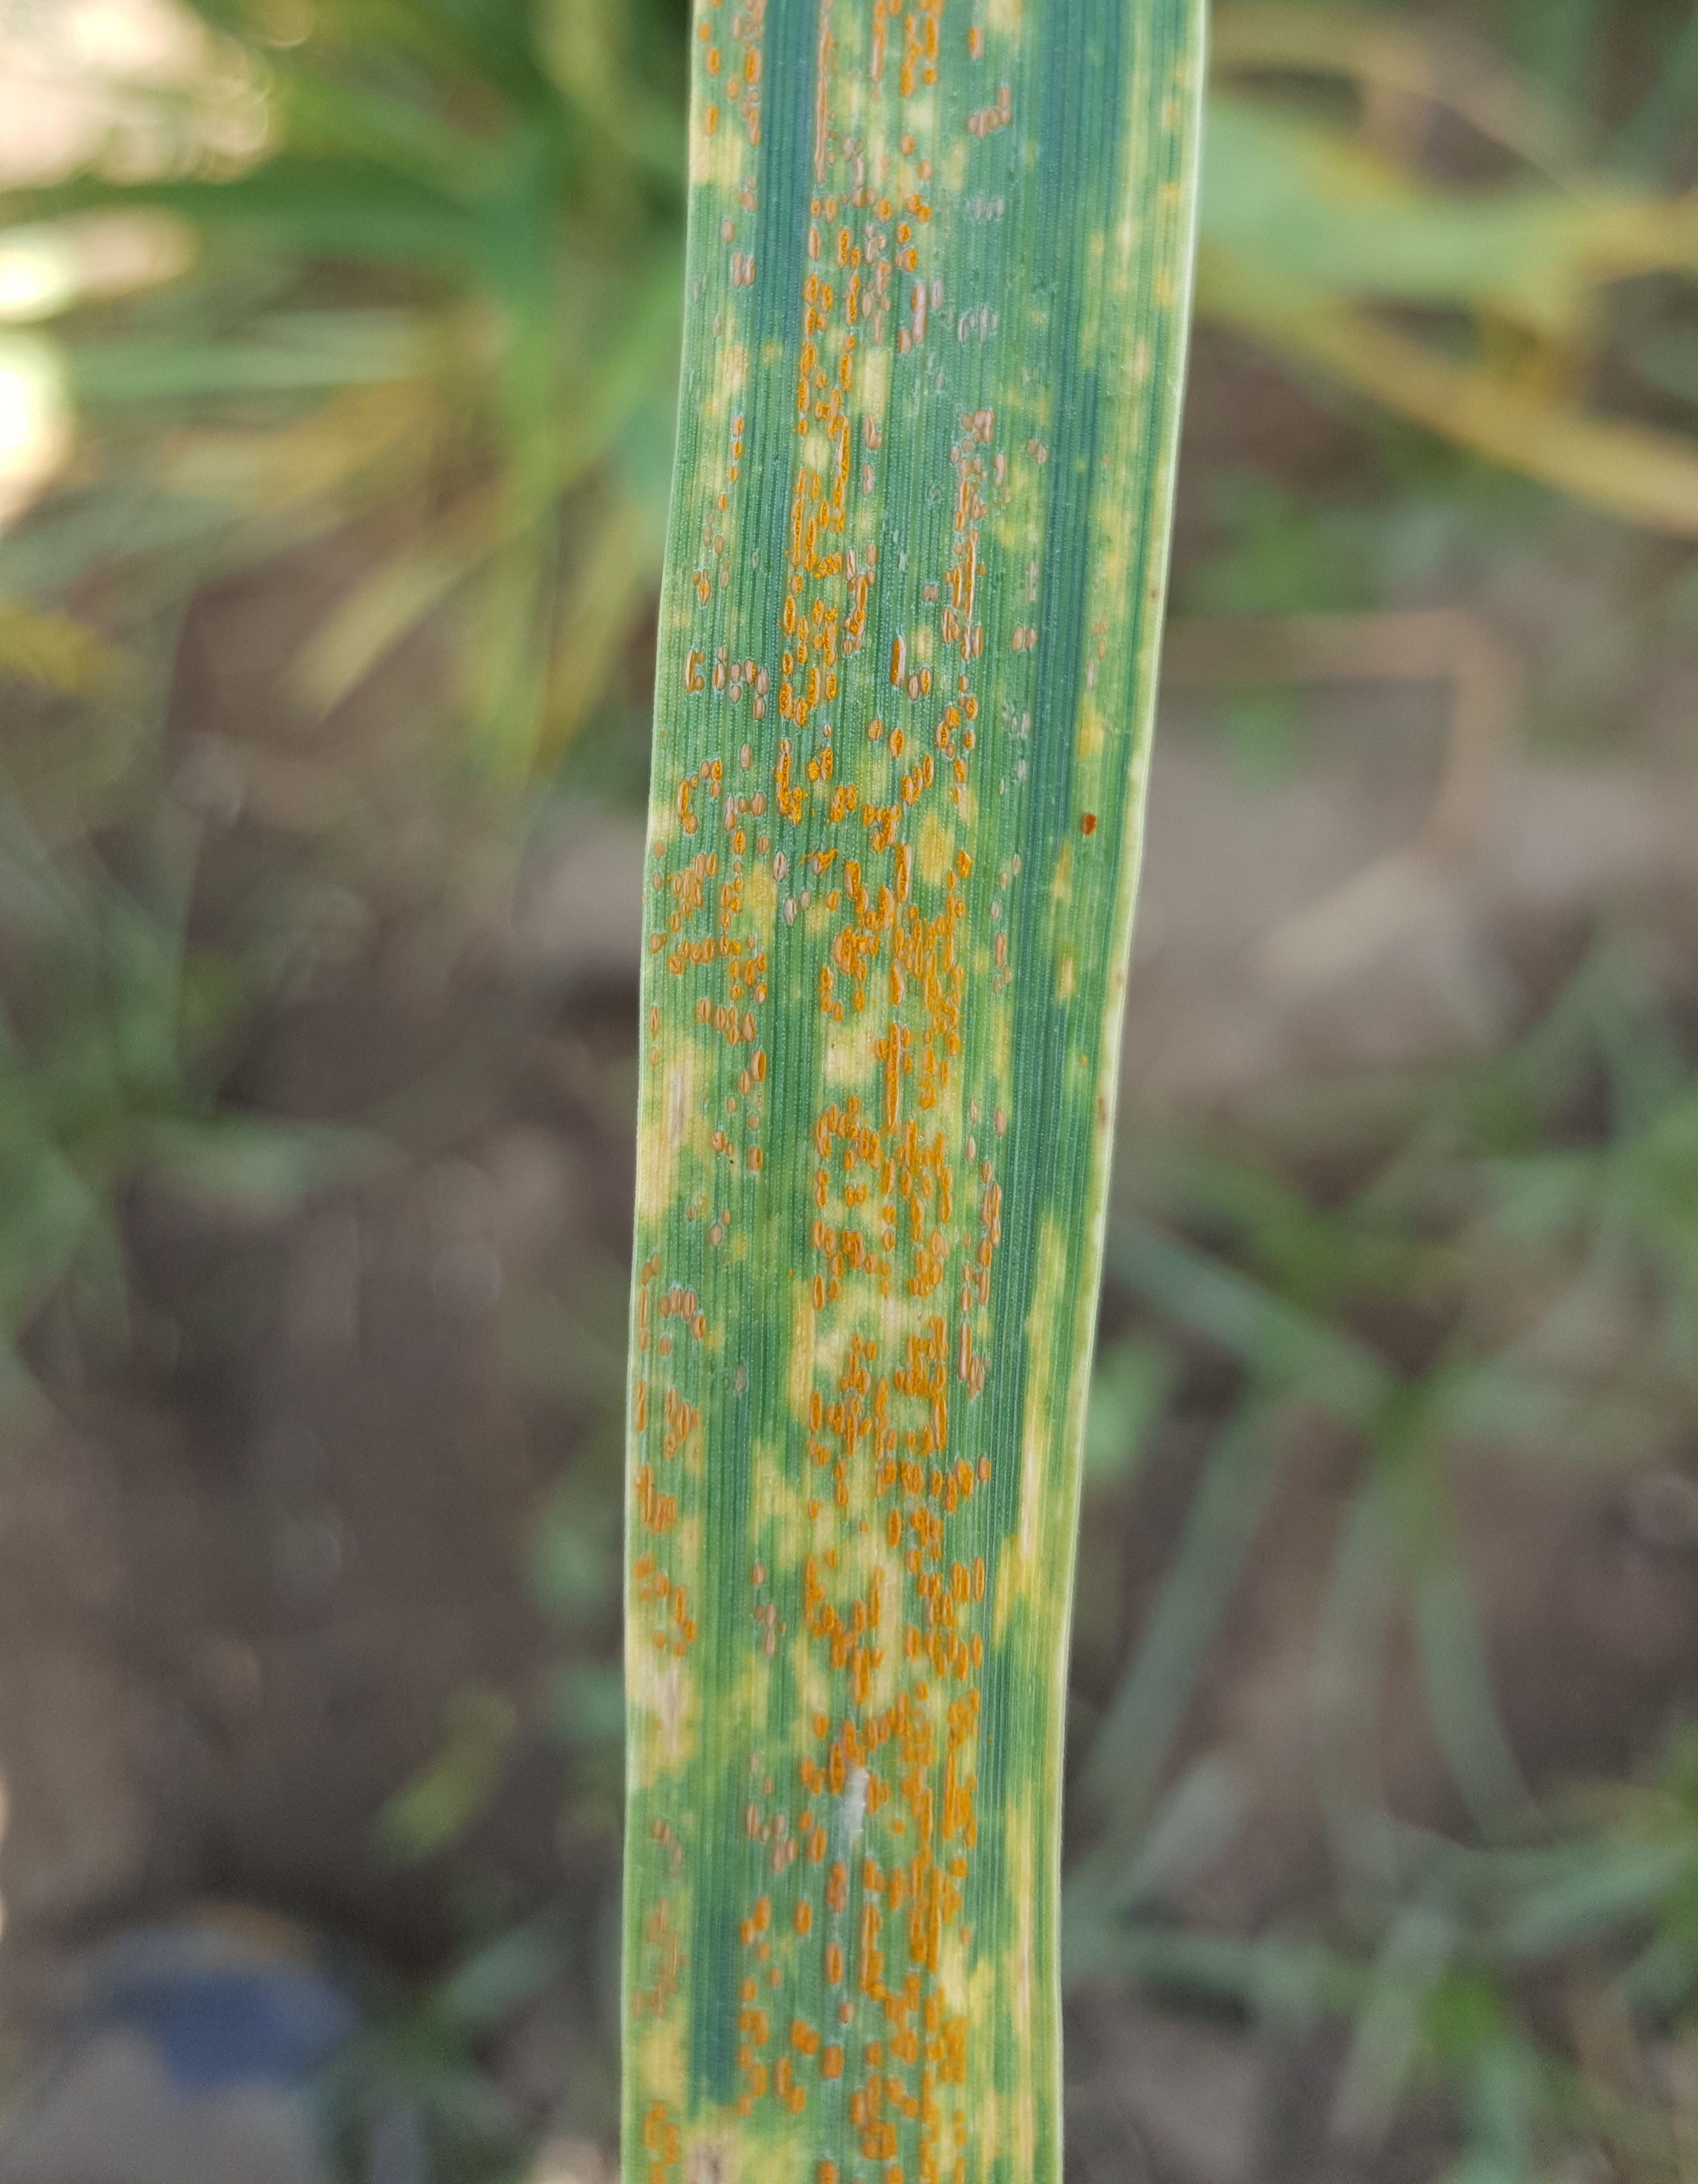Leaf Rust: (541, 308, 1134, 2021)
